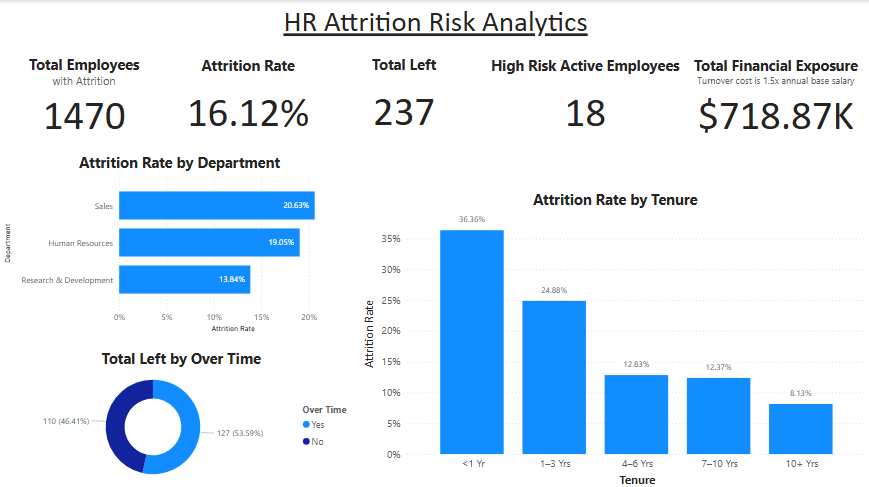

The page's visual inventory and layout, read from the dashboard file:
{"tool":"powerbi","page":{"name":"Overview","canvas":[1280,720],"ordinal":0},"visuals":[{"type":"card","title":"Total Employees","fields":{"Values":["_Measures.Total Employees"]},"box":[0,70.6,246.9,142.8],"z":0},{"type":"card","title":"Attrition Rate","fields":{"Values":["_Measures.Attrition Rate"]},"box":[246.9,72.2,235.2,142.8],"z":1000},{"type":"card","title":"Total Left","fields":{"Values":["_Measures.Total Leavers"]},"box":[482.1,70.6,223.4,142.8],"z":2000},{"type":"card","title":"Total Financial Exposure","fields":{"Values":["_Measures.Total Financial Exposure"]},"box":[1001.2,72.2,278.8,142.8],"z":3000},{"type":"card","title":"High Risk Active Employees","fields":{"Values":["_Measures.High Risk Active Employees"]},"box":[705.5,72.2,309.1,142.8],"z":4000},{"type":"barChart","fields":{"Category":["hr_employee_attrition_processed.Department"],"Y":["_Measures.Attrition Rate"]},"box":[0,215,527.5,283.9],"z":5000},{"type":"donutChart","fields":{"Category":["hr_employee_attrition_processed.OverTime"],"Y":["_Measures.Total Leavers"]},"box":[0,510.7,532.5,210],"z":6000},{"type":"lineStackedColumnComboChart","fields":{"Y":["_Measures.Attrition Rate"],"Category":["hr_employee_attrition_processed.Tenure"]},"box":[527.5,277.2,752.5,443.5],"z":7000},{"type":"textbox","box":[0,0,1280,70.6],"z":8000}]}

Visuals, with their boxes in screenshot pixels (x1, y1, x2, y2), scaled from the page's 1280x720 canvas onto the 869x487 screenshot:
"Total Employees" card: bbox(0, 48, 168, 144)
"Attrition Rate" card: bbox(168, 49, 327, 145)
"Total Left" card: bbox(327, 48, 479, 144)
"Total Financial Exposure" card: bbox(680, 49, 868, 145)
"High Risk Active Employees" card: bbox(479, 49, 689, 145)
barChart - hr_employee_attrition_processed.Department x _Measures.Attrition Rate: bbox(0, 145, 358, 337)
donutChart - hr_employee_attrition_processed.OverTime x _Measures.Total Leavers: bbox(0, 345, 362, 486)
lineStackedColumnComboChart - _Measures.Attrition Rate x hr_employee_attrition_processed.Tenure: bbox(358, 187, 868, 486)
textbox: bbox(0, 0, 868, 48)
